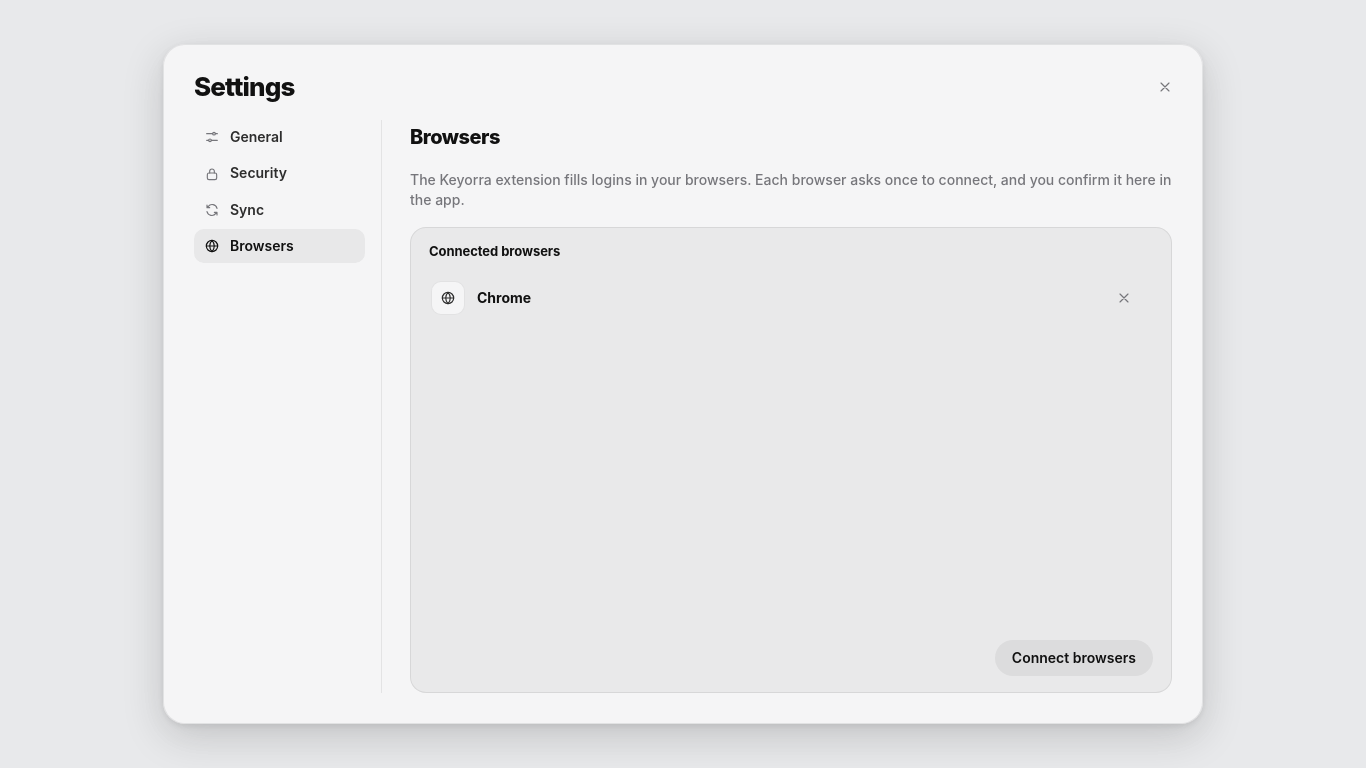
tells how to add Safari when its app is missing
The image size is (1366, 768).
Click the button "Connect browsers" at (1074, 658), box x1=995 y1=640 x2=1153 y2=676
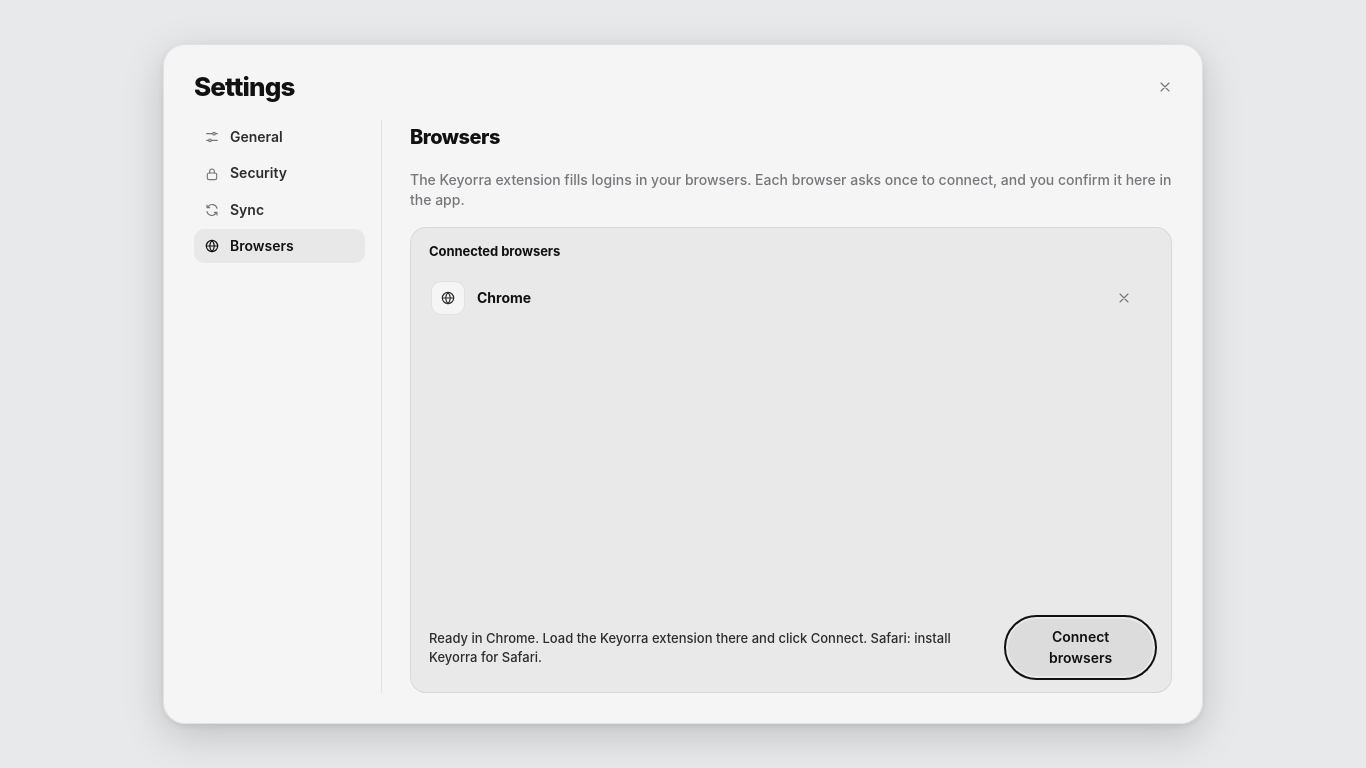
Expected: the text "Ready in Chrome. Load the Keyorra extension there and click Connect. Safari: install Keyorra for Safari." is shown, x1=429 y1=630 x2=951 y2=665
